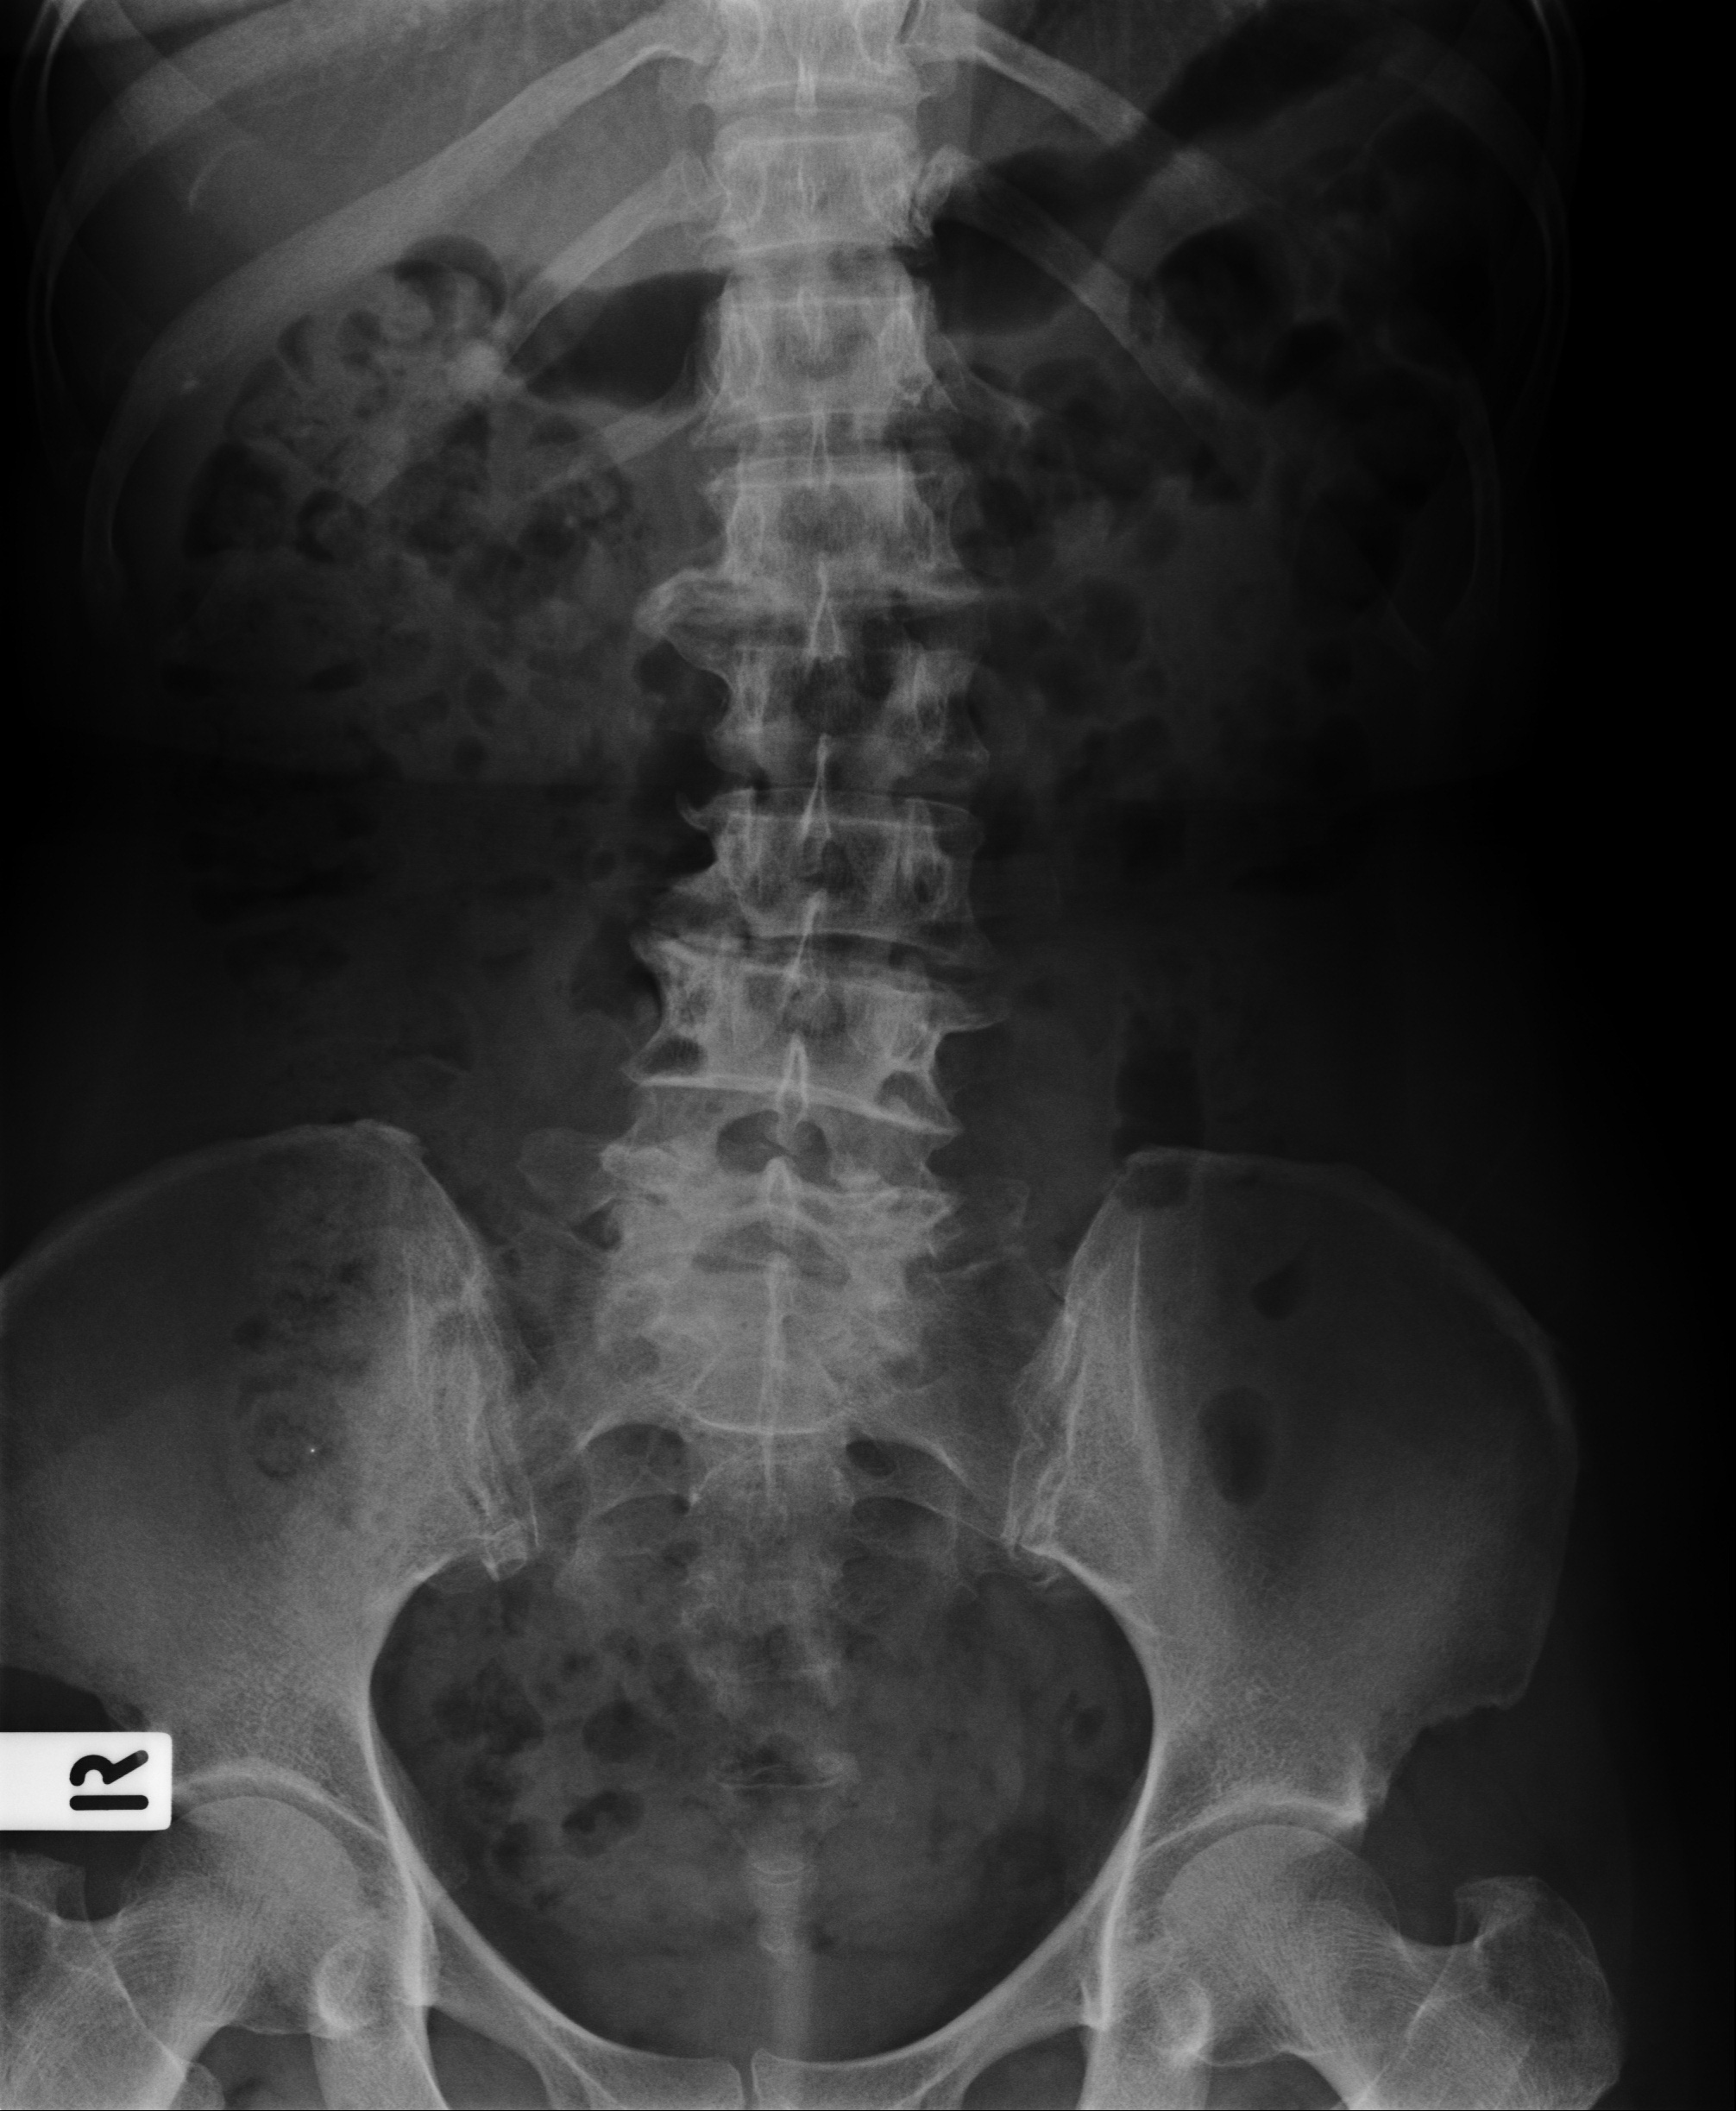lumbar scoliosis: (624, 61, 970, 1411)
